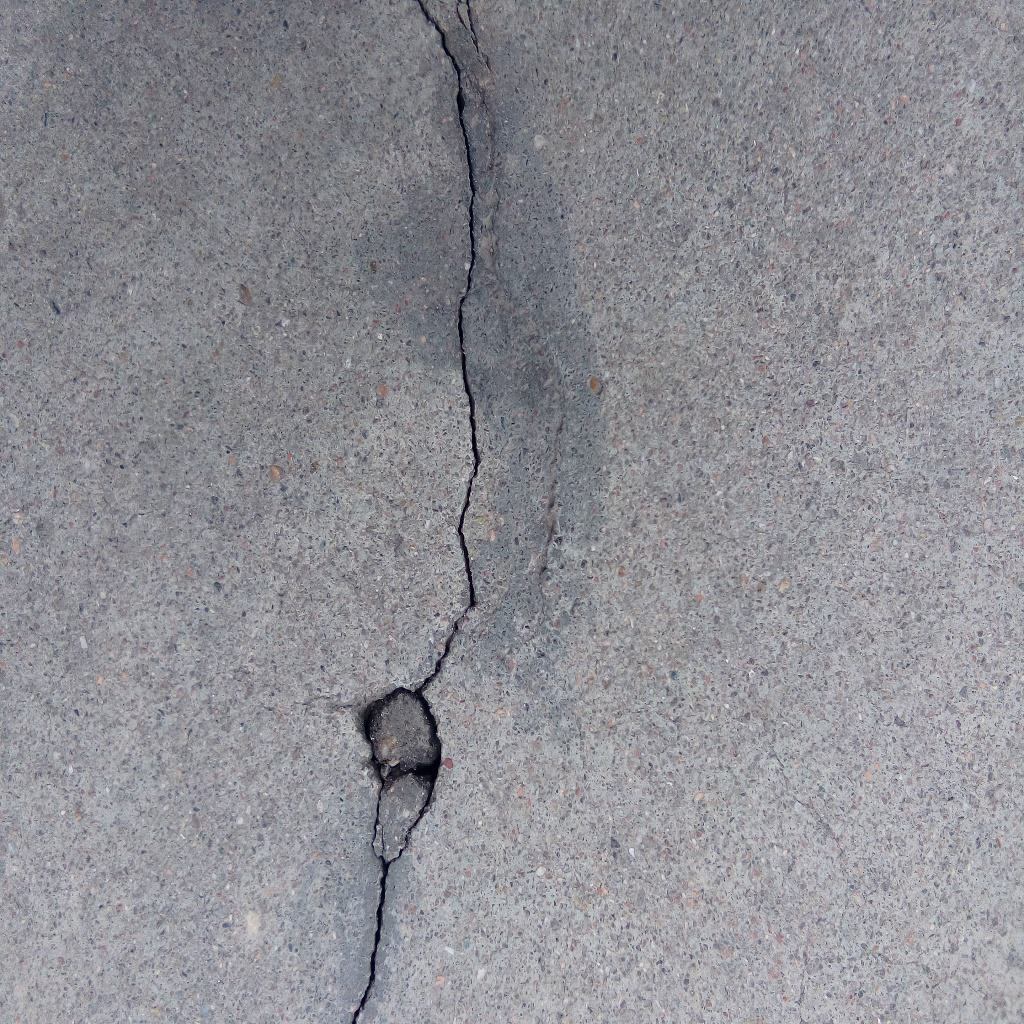Crack: (418, 1, 483, 695), (351, 863, 391, 1024)
Spalling: (356, 687, 442, 863)
